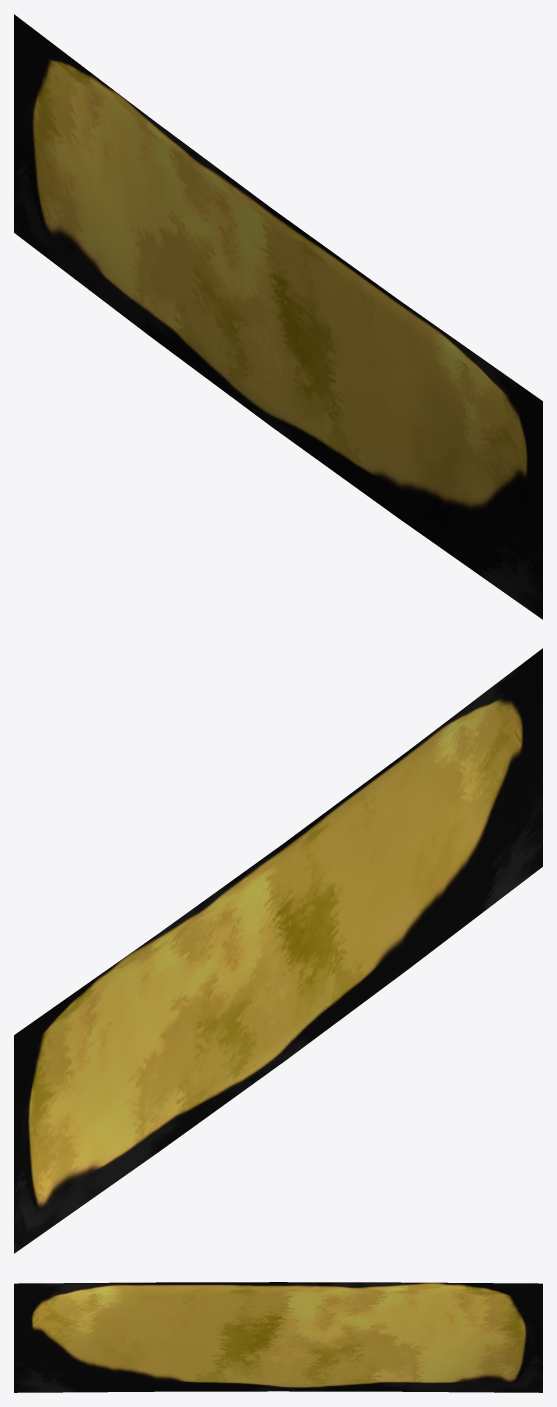
The model's file is pm-cloud-03.glb.
3 views of the same model, one above another, from view 1: azimuth 30°, elevation 25°; view 2: azimuth 150°, elevation 25°; view 3: azimuth 270°, elevation 25° (orthographic). The views are drawn at different scales.
Parts seen in each view (by area): view 1: Cloud03; view 2: Cloud03; view 3: Cloud03.
Part boxes in pixels (x1,y1,x2,y2): Cloud03: (14, 14, 542, 619); Cloud03: (14, 648, 542, 1253); Cloud03: (14, 1282, 542, 1392).
Bounding box in the file's own units: 0.0562 × 1.27 × 5.55.
1 material, 1 textured.
